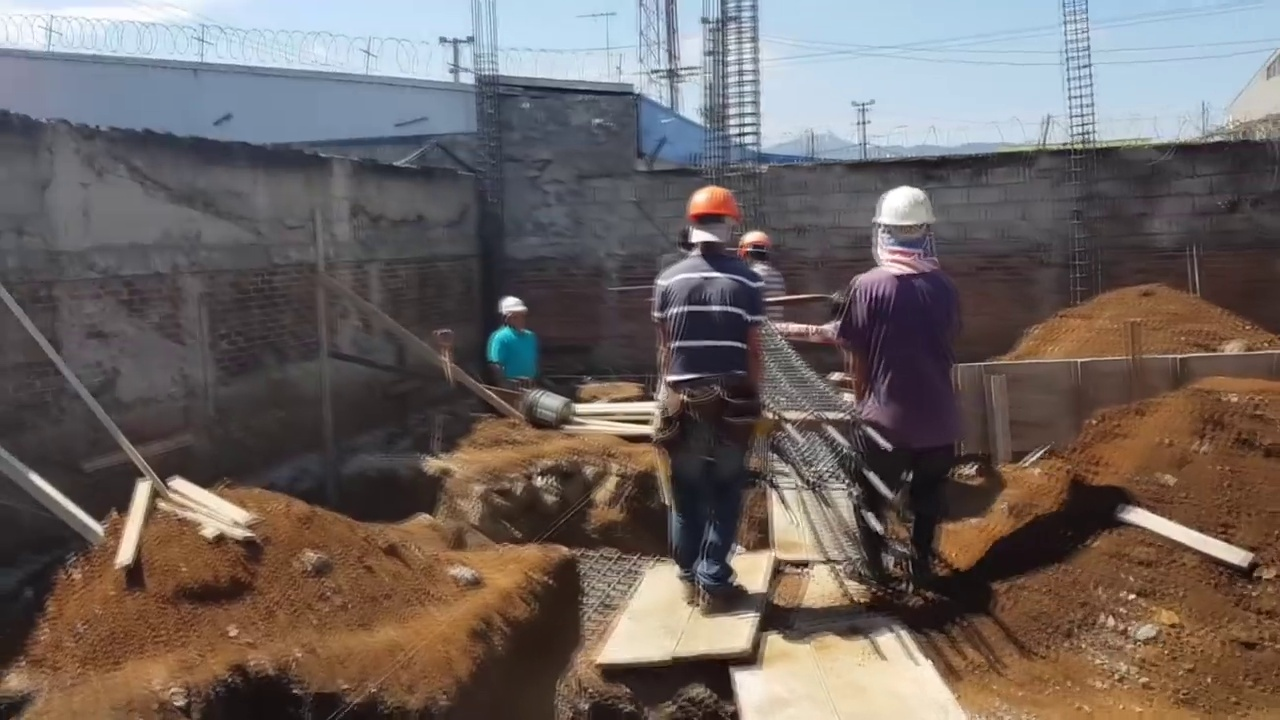helmet: (873, 185, 937, 230), (683, 185, 741, 223), (738, 231, 770, 255), (499, 296, 527, 320)
helmet-on: (869, 182, 936, 266), (682, 186, 737, 260), (736, 233, 771, 266), (499, 297, 527, 332)
person: (817, 182, 975, 598), (651, 173, 776, 605), (486, 296, 543, 382), (736, 233, 786, 307)
